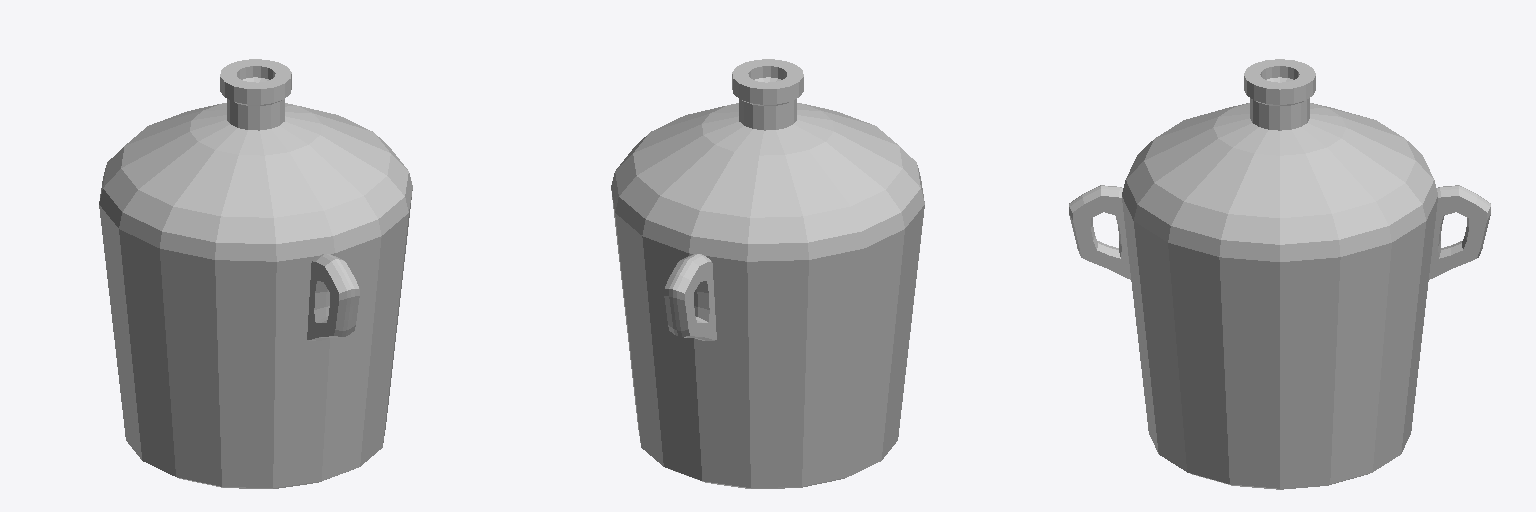
Rendered from carboy.obj.
The picture shows the model from 3 angles: view 1: azimuth 30°, elevation 25°; view 2: azimuth 150°, elevation 25°; view 3: azimuth 270°, elevation 25°; orthographic projection.
Parts seen in each view (by area): view 1: Circle.001_Circle.005; view 2: Circle.001_Circle.005; view 3: Circle.001_Circle.005.
Part boxes in pixels (x1,y1,x2,y2): Circle.001_Circle.005: (99, 59, 412, 488); Circle.001_Circle.005: (611, 59, 924, 488); Circle.001_Circle.005: (1069, 59, 1490, 489).
Bounding box in the file's own units: 2.28 × 2.89 × 3.04.